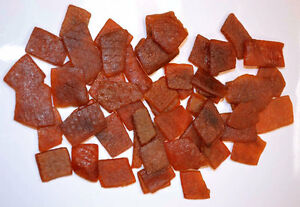bacon: (20, 17, 266, 179)
